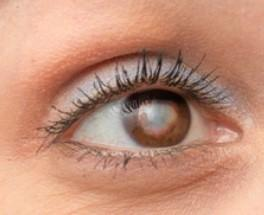eye: (123, 90, 194, 149)
